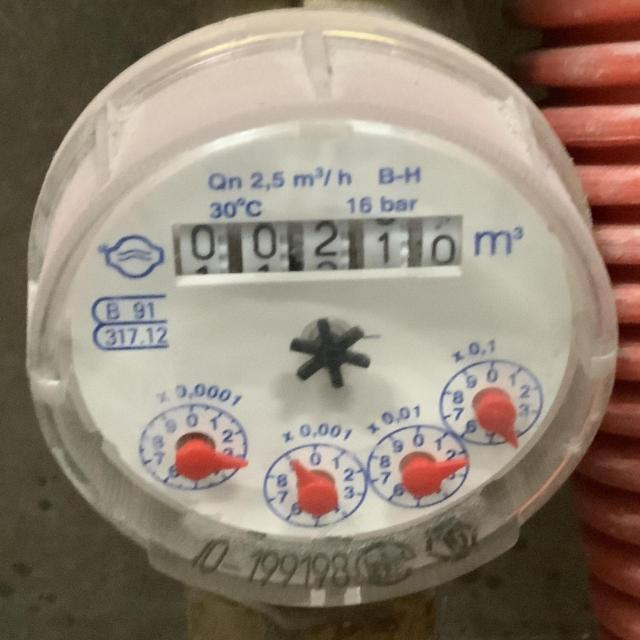gaz_meter: (23, 12, 620, 610)
indication: (175, 216, 461, 275)
